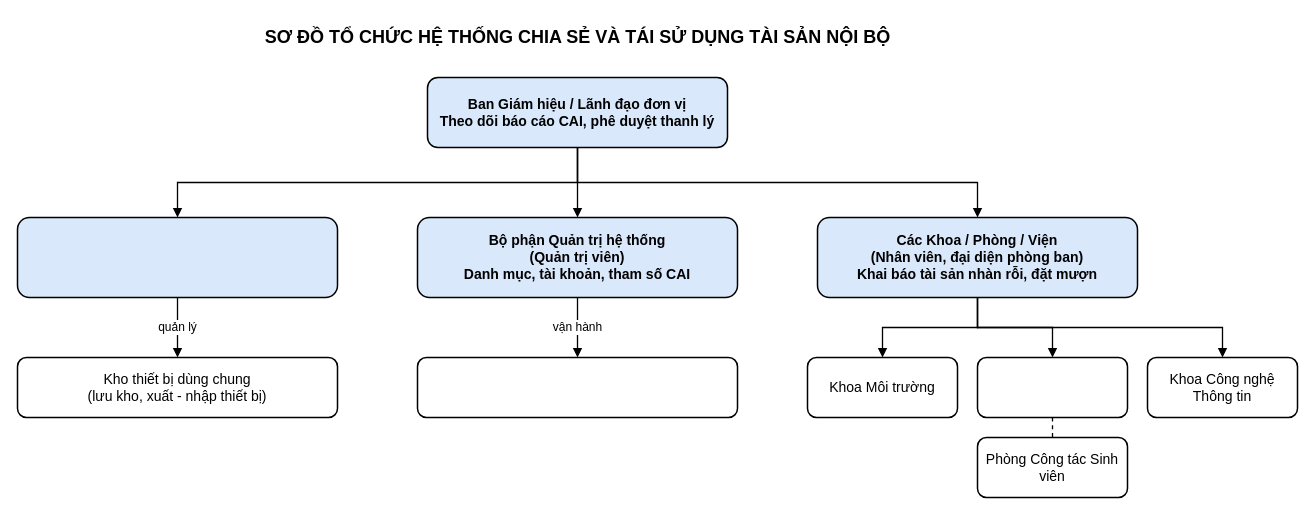
This 1316x515 diagram has some shape labels left out. The shapes that lost their labels are listed below. From the top down, each one's box as (x1, y1, x2, y2) in pixels, then its label:
(16, 216, 338, 298): Phòng Quản trị Thiết bị (Thủ kho) Kiểm nhận, xét duyệt, giao nhận, bảo dưỡng
(416, 356, 738, 418): Hệ thống ENV-09 (tác vụ tự động 00:05)
(976, 356, 1128, 418): Khoa Trắc địa - Bản đồ
